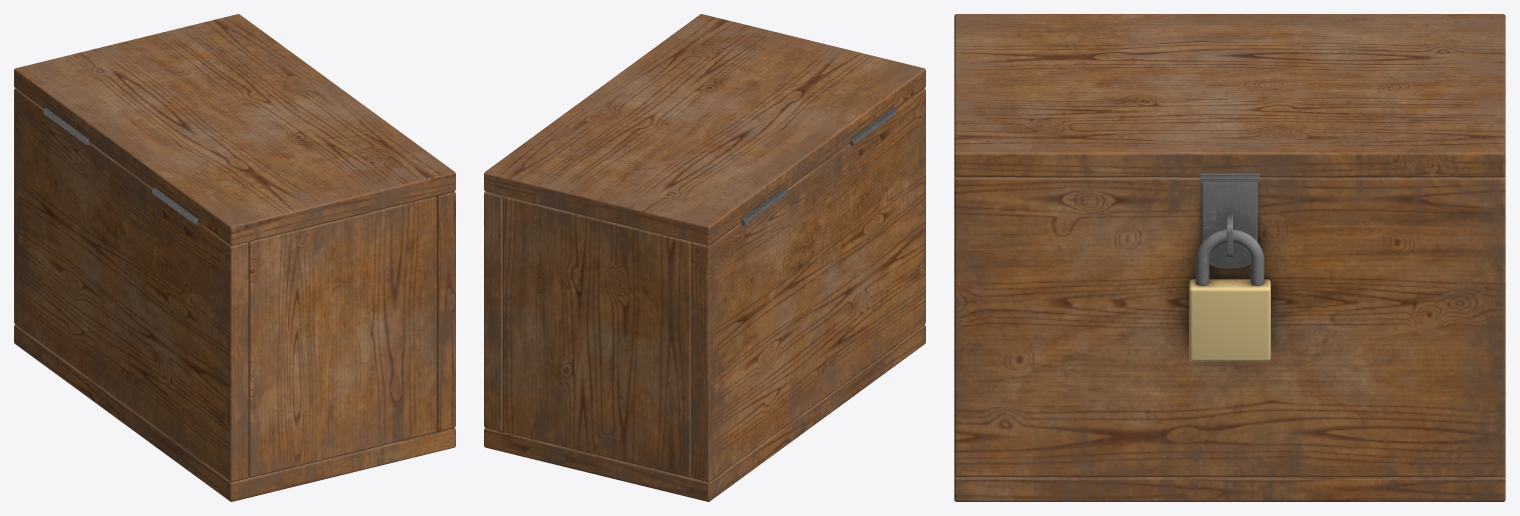
3 views of the same model, side by side, from view 1: azimuth 30°, elevation 25°; view 2: azimuth 150°, elevation 25°; view 3: azimuth 270°, elevation 25° (orthographic). The views are drawn at different scales.
Parts seen in each view (by area): view 1: Cube.003, Cube.002, Cube.004, Cube, Cube.001, Salpa; view 2: Cube.003, Cube.002, Cube.005, Cube, Cube.001, Salpa; view 3: Cube.001, Cube.003, Cube, Lukko, Salpa.
Part boxes in pixels (x1,y1,x2,y2): Cube.003: (14, 14, 455, 245); Cube.002: (14, 88, 248, 482); Cube.004: (248, 196, 436, 477); Cube: (14, 324, 455, 501); Cube.001: (436, 191, 455, 431); Salpa: (43, 107, 198, 225); Cube.003: (484, 14, 925, 245); Cube.002: (691, 88, 925, 482); Cube.005: (503, 196, 691, 477); Cube: (484, 324, 925, 501); Cube.001: (484, 191, 503, 431); Salpa: (741, 107, 896, 225); Cube.001: (954, 176, 1505, 476); Cube.003: (954, 14, 1505, 176); Cube: (954, 475, 1505, 501); Lukko: (1189, 229, 1270, 361); Salpa: (1200, 173, 1259, 268).
Bounding box in the file's own units: 1351 × 1400 × 2000.
Materials: 3 (3 with a texture image).
